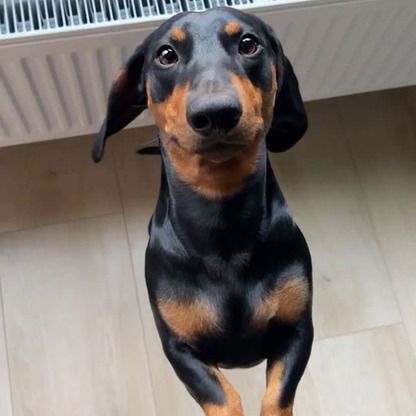dachshund: (92, 15, 362, 404)
